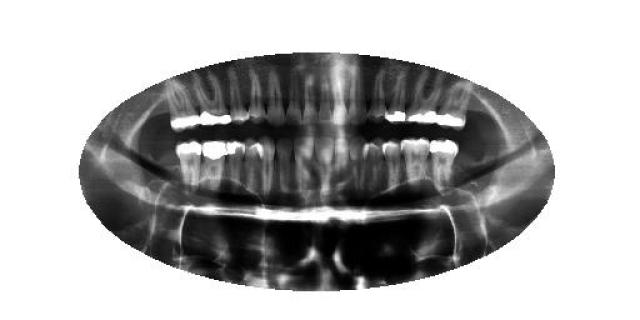Fillings: (191, 71, 229, 131), (164, 76, 198, 132), (411, 72, 444, 126), (438, 80, 472, 131), (430, 138, 458, 192), (175, 138, 200, 194), (202, 140, 228, 191), (388, 70, 407, 128), (226, 139, 244, 195)
